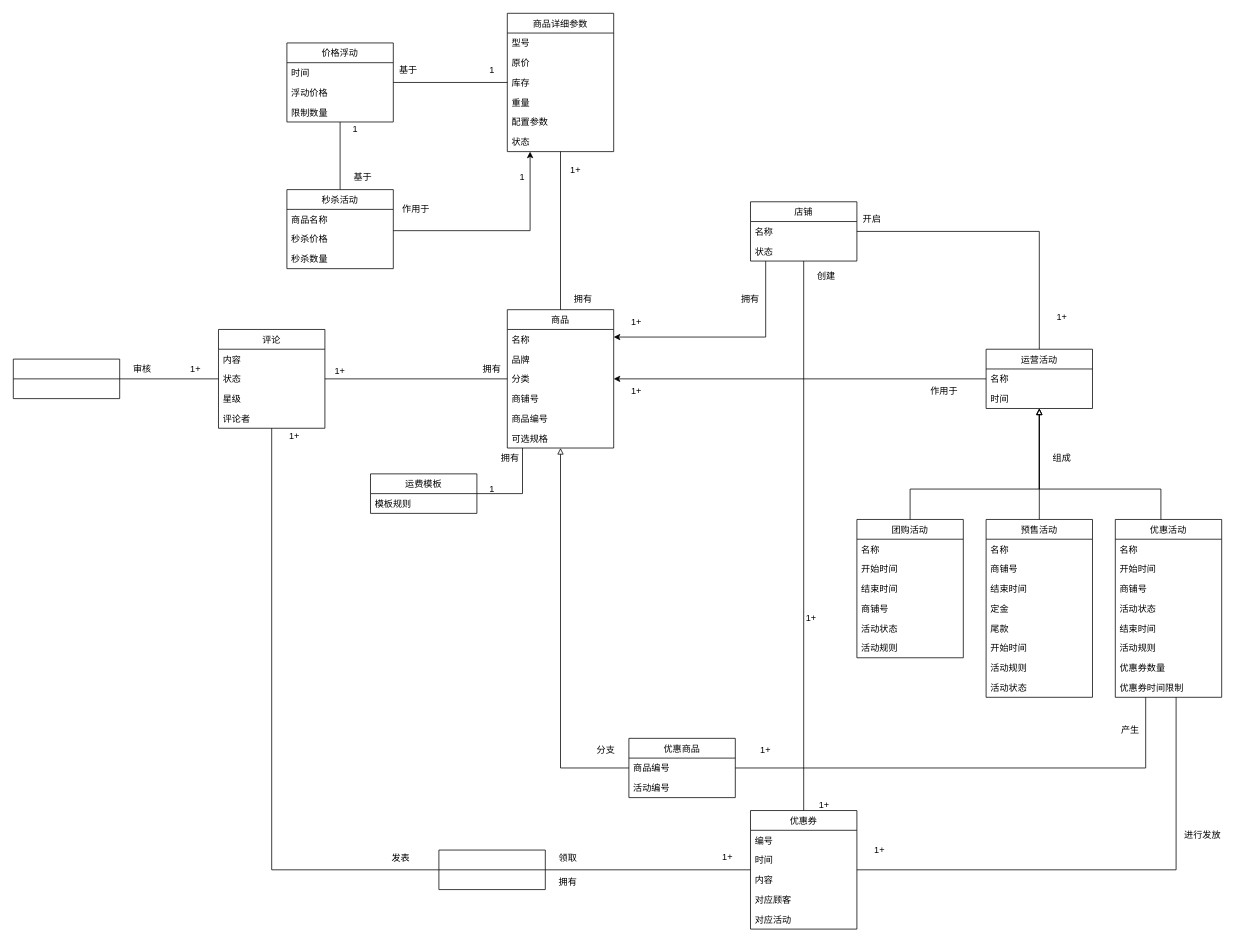
The diagram is 1243 pixels wide and 945 high, and some of its shapes have lost their labels. Each missing label, with the centre of its shape:
"平台管理员" belongs at (x=66, y=378).
"顾客" belongs at (x=491, y=869).
